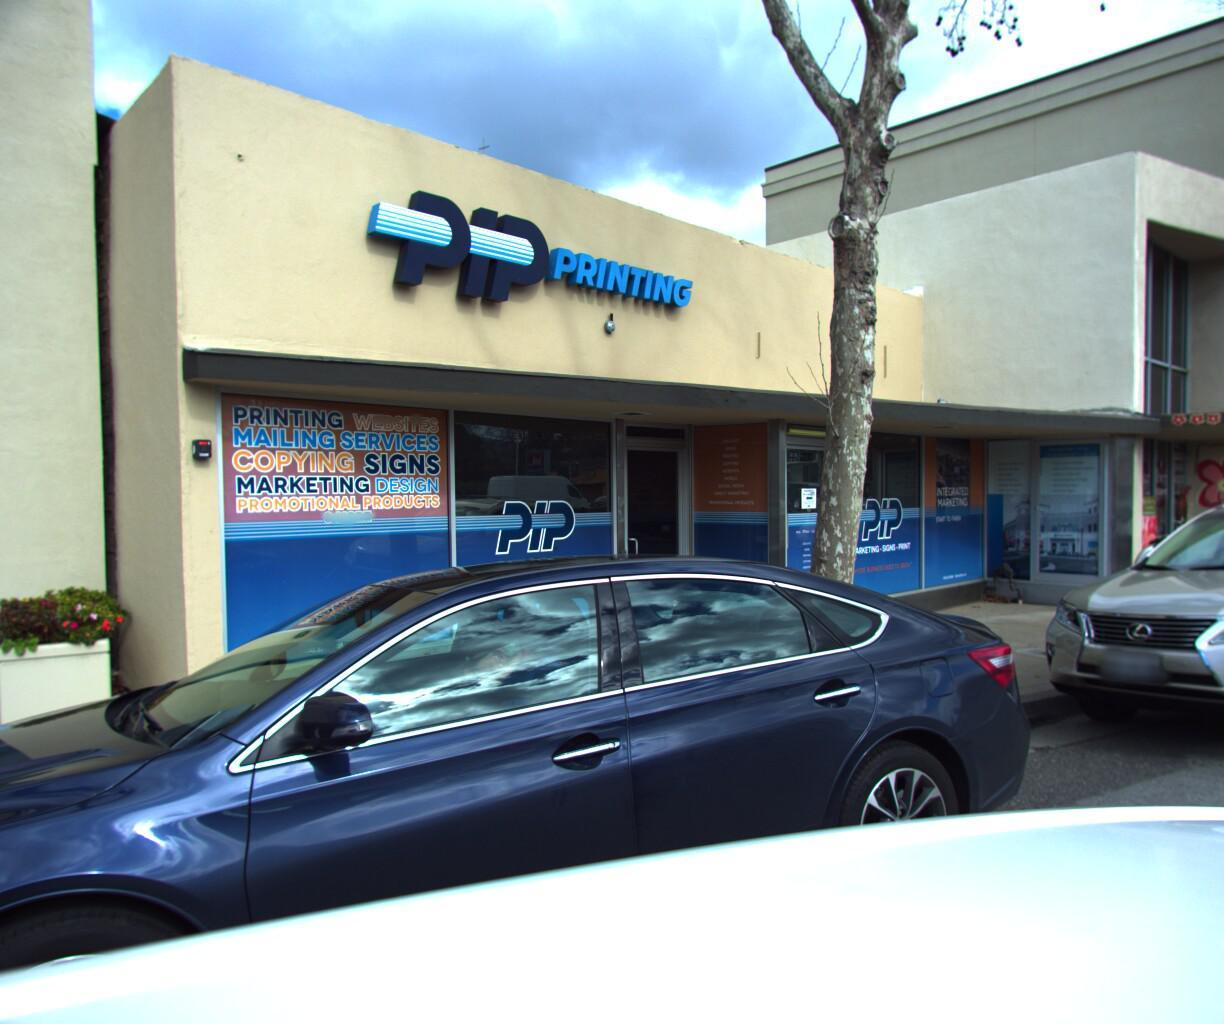car: (0, 531, 1106, 1024), (1009, 474, 1224, 811)
